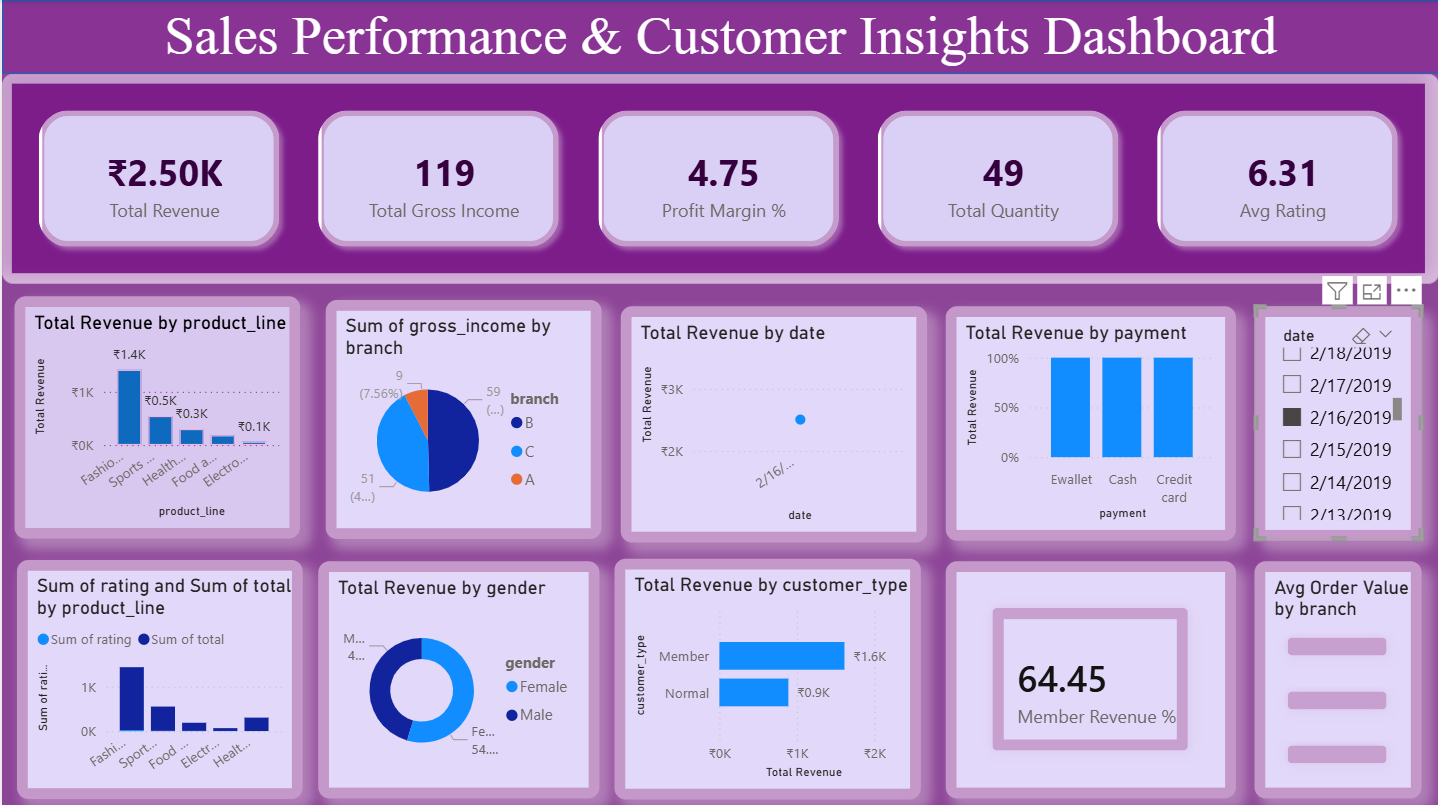

The page's visual inventory and layout, read from the dashboard file:
{"tool":"powerbi","page":{"name":"Page 1","canvas":[1280,720],"ordinal":0},"visuals":[{"type":"cardVisual","fields":{"Data":["public sales_data.Total Revenue","public sales_data.Total Gross Income","public sales_data.Profit Margin %","public sales_data.Total Quantity","public sales_data.Avg Rating"]},"box":[0,65.7,1280,187.1],"z":0},{"type":"pieChart","fields":{"Category":["public sales_data.branch"],"Y":["Sum(public sales_data.gross_income)"]},"box":[288.6,267.1,245.7,212.9],"z":1000},{"type":"clusteredColumnChart","fields":{"Category":["public sales_data.product_line"],"Y":["public sales_data.Total Revenue"]},"box":[11.4,264.3,254.3,215.7],"z":2000},{"type":"lineChart","fields":{"Category":["public sales_data.date"],"Y":["public sales_data.Total Revenue"]},"box":[551.4,272.9,272.9,210],"z":3000},{"type":"hundredPercentStackedColumnChart","fields":{"Category":["public sales_data.payment"],"Y":["public sales_data.Total Revenue"]},"box":[840,272.9,258.6,208.6],"z":4000},{"type":"lineStackedColumnComboChart","fields":{"Y":["Sum(public sales_data.rating)","Sum(public sales_data.total)"],"Category":["public sales_data.product_line"]},"box":[12.9,498.6,254.3,212.9],"z":5000},{"type":"donutChart","fields":{"Category":["public sales_data.gender"],"Y":["public sales_data.Total Revenue"]},"box":[281.4,500,250,211.4],"z":6000},{"type":"clusteredBarChart","fields":{"Category":["public sales_data.customer_type"],"Y":["public sales_data.Total Revenue"]},"box":[545.7,497.1,272.9,214.3],"z":7000},{"type":"cardVisual","fields":{"Data":["public sales_data.Member Revenue %"]},"box":[840,500,258.6,211.4],"z":8000},{"type":"slicer","fields":{"Values":["public sales_data.date"]},"box":[1115.7,272.9,148.6,208.6],"z":9000},{"type":"shape","box":[0,0,1280,65.7],"z":10000},{"type":"textbox","box":[0,0,1280,65.7],"z":11000},{"type":"cardVisual","fields":{"Data":["public sales_data.Avg Order Value"]},"box":[1115.7,500,148.6,211.4],"z":12000}]}

Visuals, with their boxes in screenshot pixels (x1, y1, x2, y2), scaled from the page's 1280x720 canvas onto the 1438x805 screenshot:
cardVisual - public sales_data.Total Revenue x public sales_data.Total Gross Income: (left=0, top=73, right=1437, bottom=283)
pieChart - public sales_data.branch x Sum(public sales_data.gross_income): (left=324, top=299, right=600, bottom=537)
clusteredColumnChart - public sales_data.product_line x public sales_data.Total Revenue: (left=13, top=296, right=298, bottom=537)
lineChart - public sales_data.date x public sales_data.Total Revenue: (left=619, top=305, right=926, bottom=540)
hundredPercentStackedColumnChart - public sales_data.payment x public sales_data.Total Revenue: (left=944, top=305, right=1234, bottom=538)
lineStackedColumnComboChart - Sum(public sales_data.rating) x Sum(public sales_data.total): (left=14, top=557, right=300, bottom=795)
donutChart - public sales_data.gender x public sales_data.Total Revenue: (left=316, top=559, right=597, bottom=795)
clusteredBarChart - public sales_data.customer_type x public sales_data.Total Revenue: (left=613, top=556, right=920, bottom=795)
cardVisual - public sales_data.Member Revenue %: (left=944, top=559, right=1234, bottom=795)
slicer - public sales_data.date: (left=1253, top=305, right=1420, bottom=538)
shape: (left=0, top=0, right=1437, bottom=73)
textbox: (left=0, top=0, right=1437, bottom=73)
cardVisual - public sales_data.Avg Order Value: (left=1253, top=559, right=1420, bottom=795)
